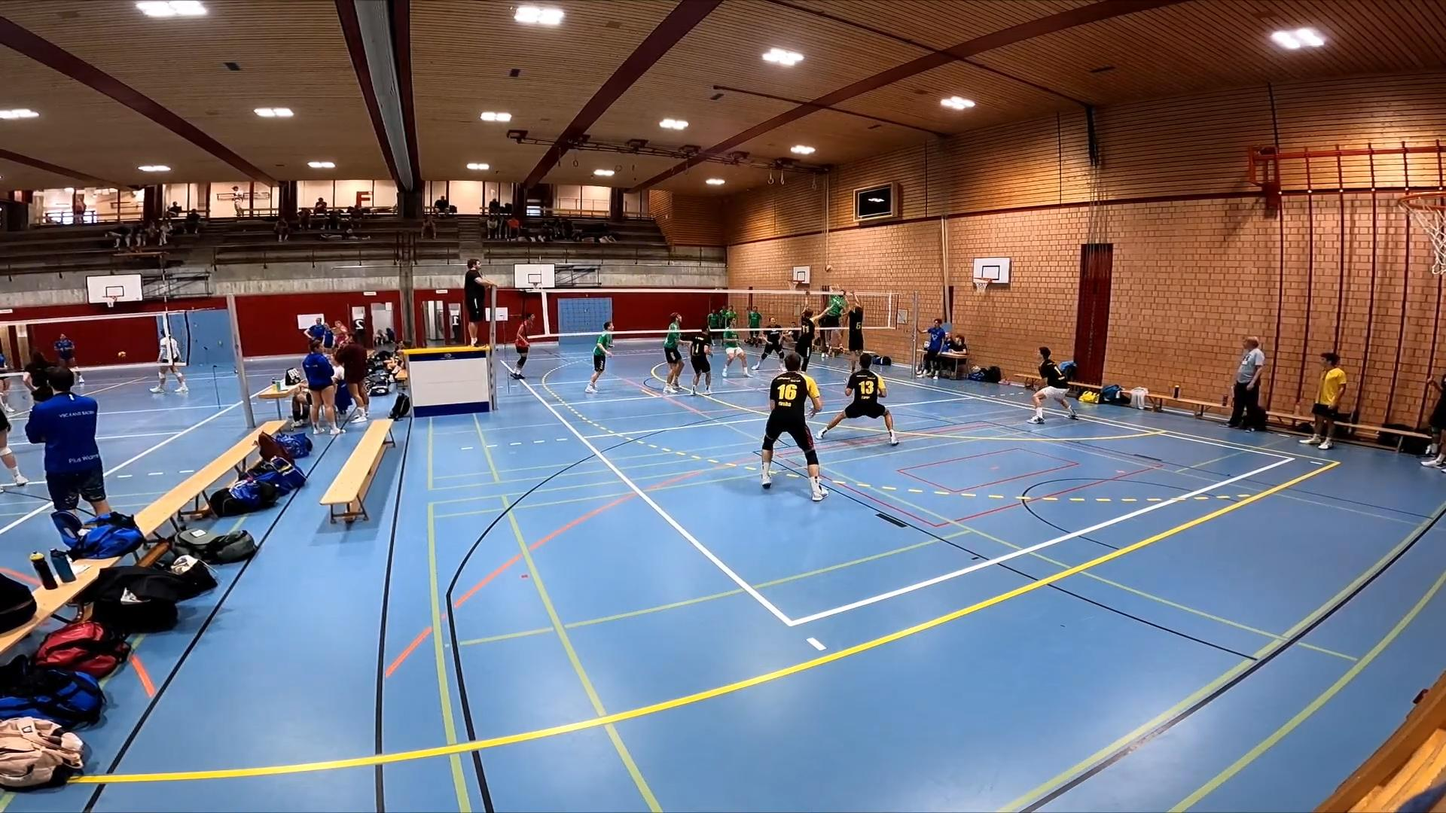attacco: (817, 276, 849, 356)
muro: (796, 297, 829, 365), (845, 300, 868, 370)
